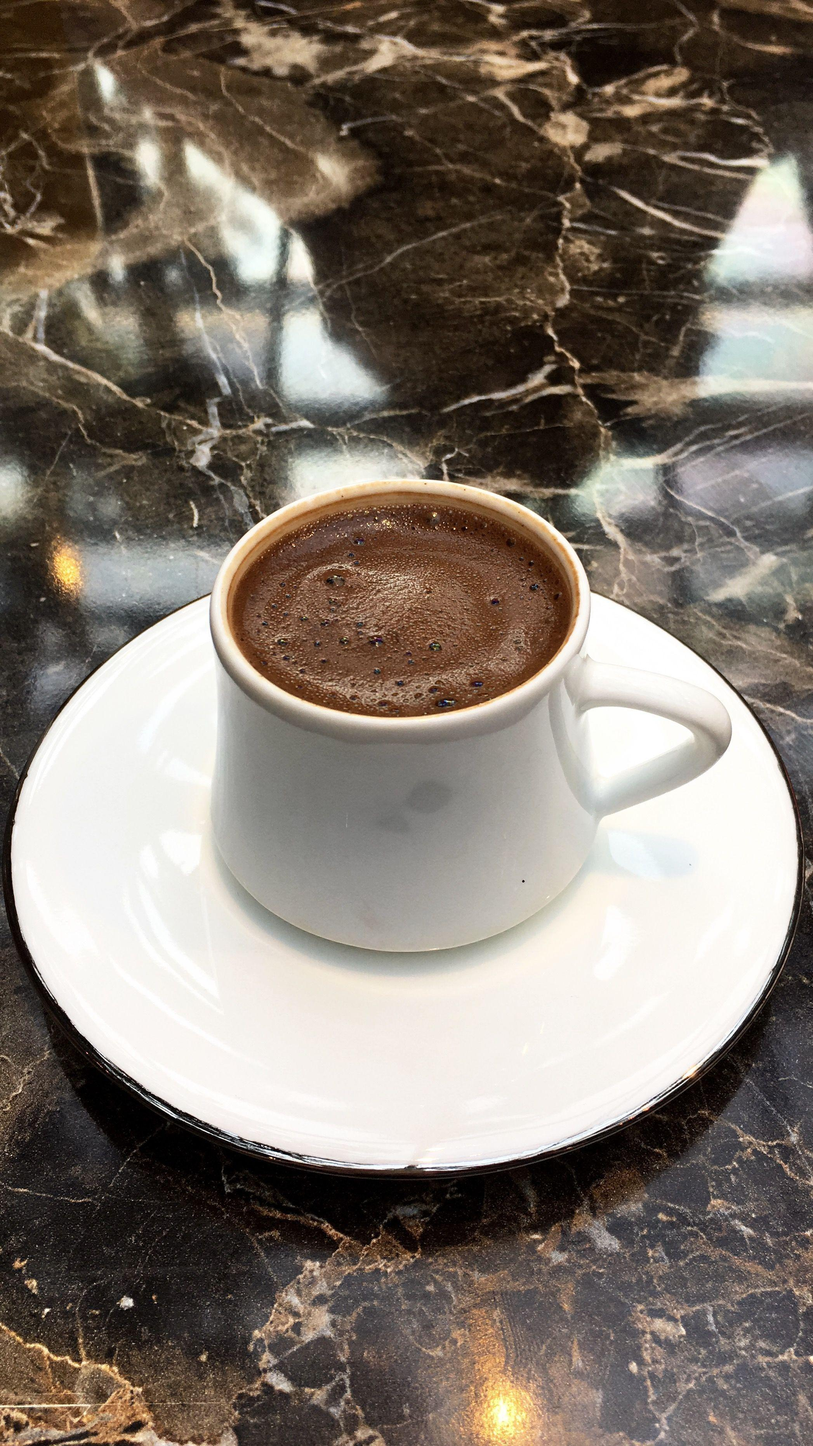cup-handle: (202, 473, 729, 962)
